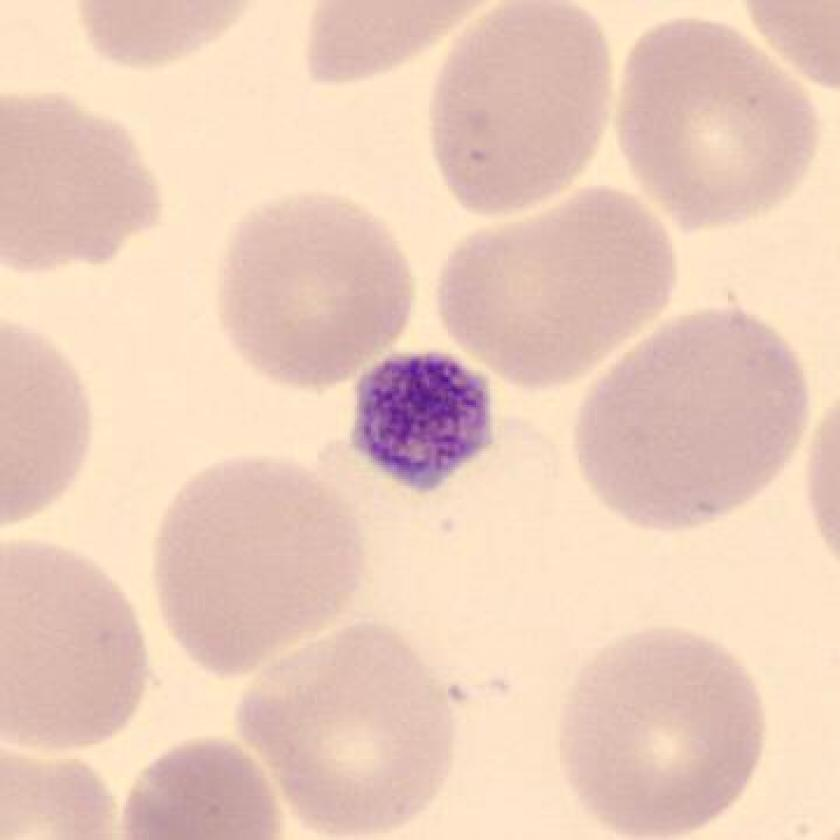platelets: (347, 344, 508, 499)
